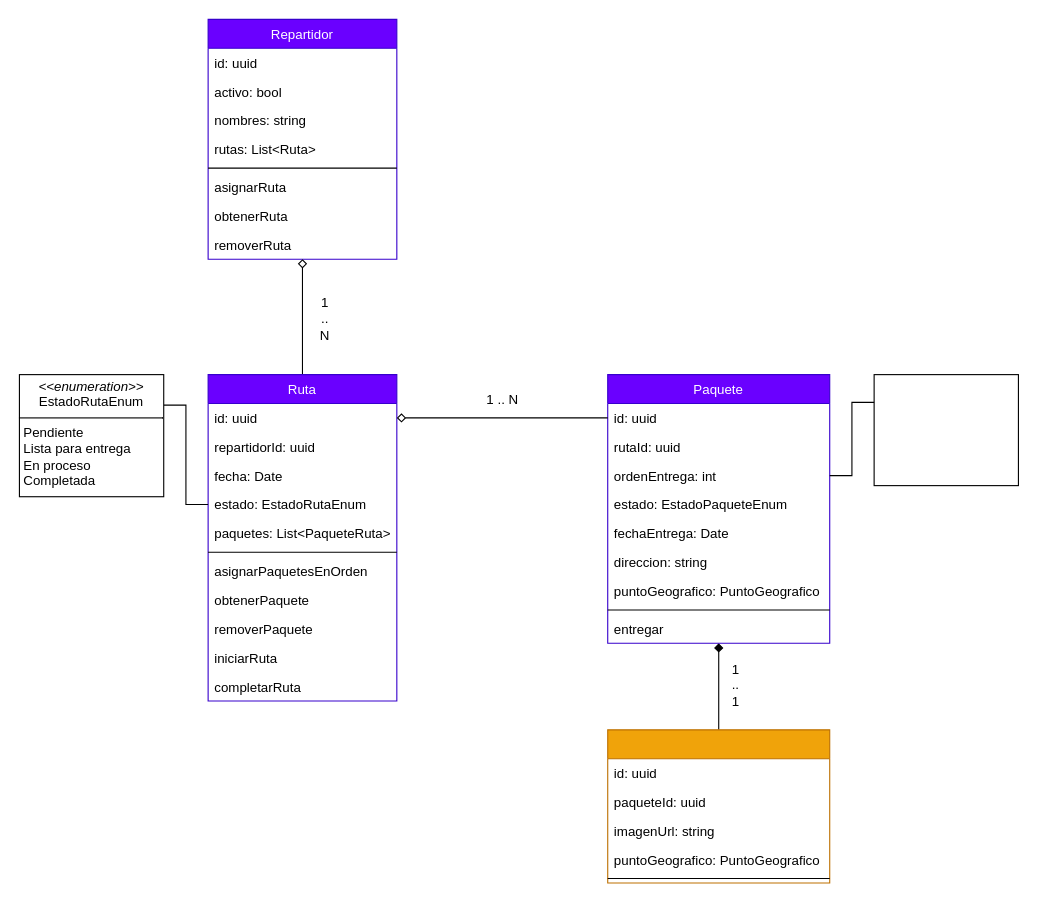
This 1038x902 diagram has some shape labels left out. The box of each missing label's shape, as (x1, y1, x2, y2) in pixels:
<<enumeration>> EstadoPedidoEnum Pendiente En camino Entregado: (873, 374, 1018, 486)
EntregaPaquete: (607, 729, 830, 883)
